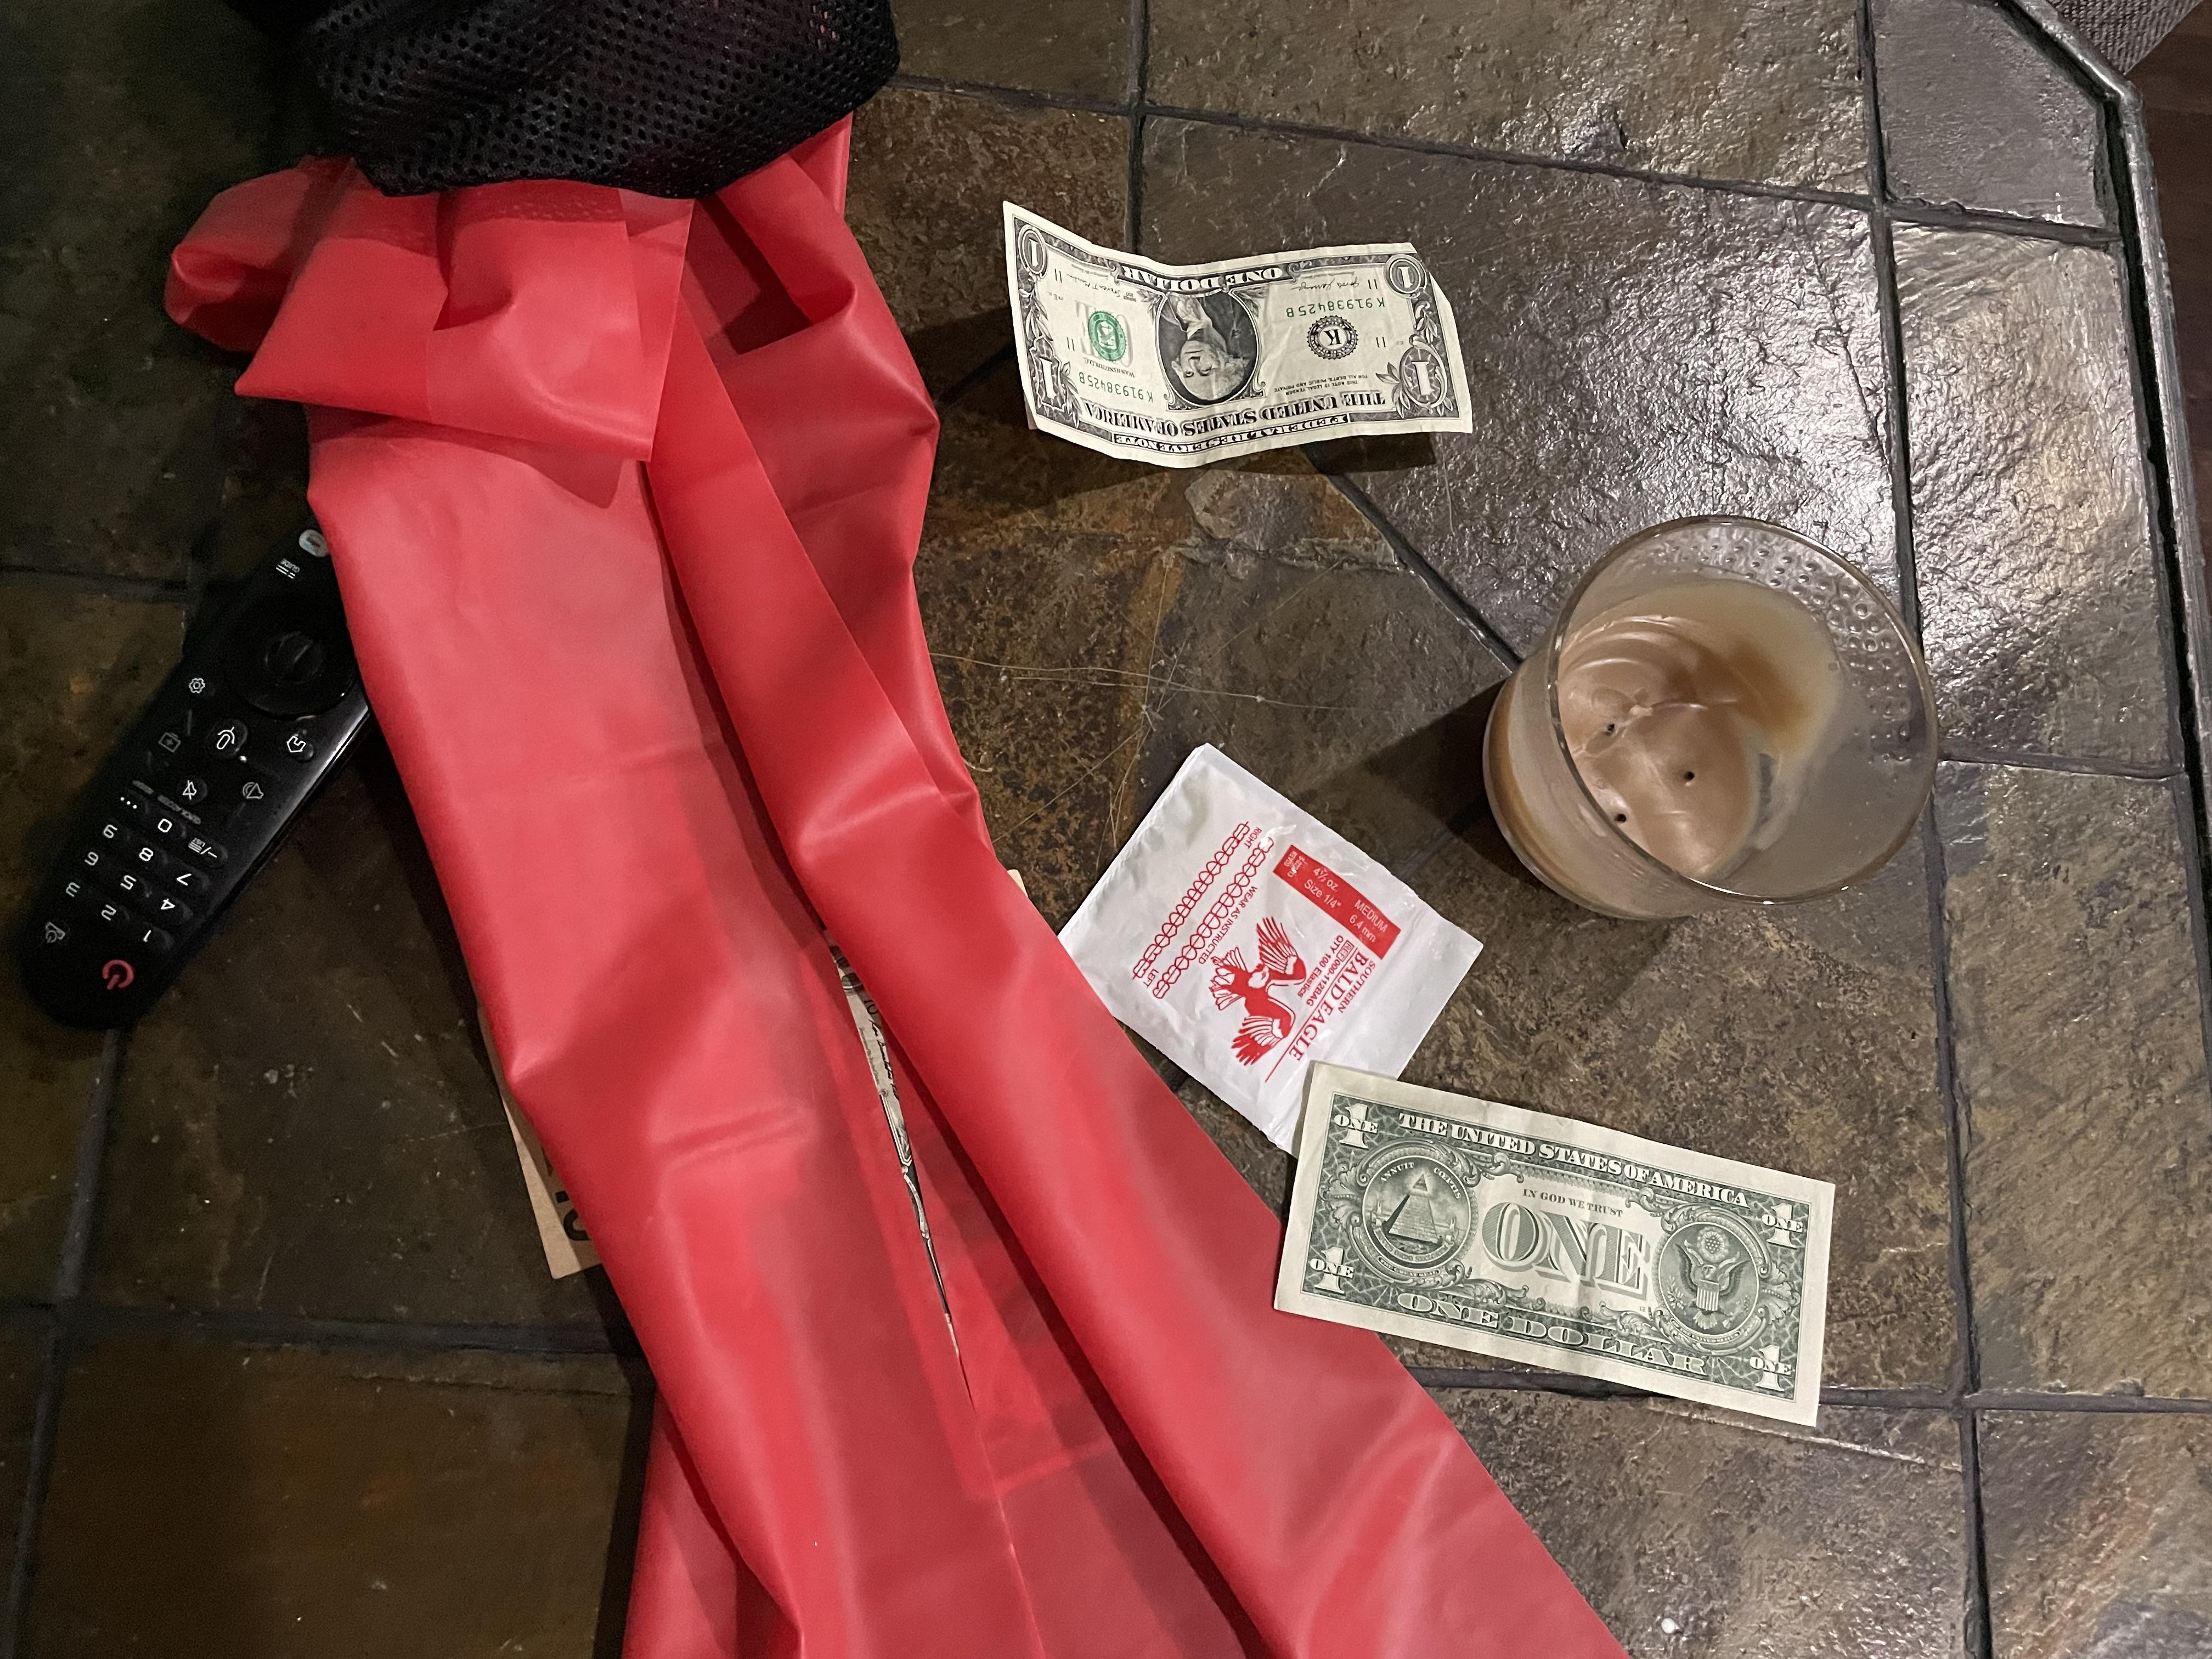OneBill: (1261, 1049, 1850, 1443), (1005, 186, 1486, 481)
